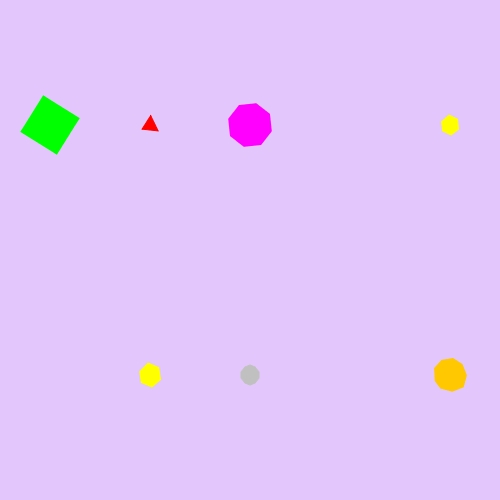decagon: (235, 361, 265, 389)
hexagon: (134, 361, 167, 390), (435, 112, 465, 138)
nonagon: (429, 355, 471, 396)
octagon: (224, 99, 277, 152)
quadrilateral: (17, 92, 83, 158)
triangle: (138, 112, 163, 138)
